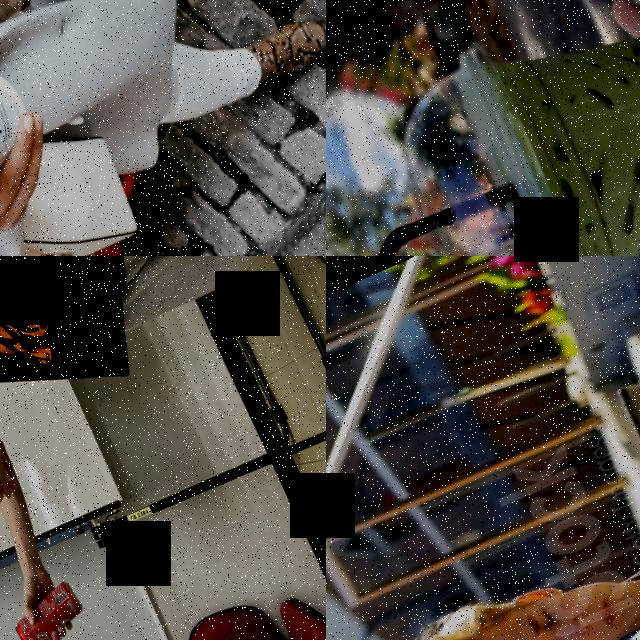can: (3, 574, 92, 640)
cup: (366, 0, 640, 256), (0, 34, 52, 222)
